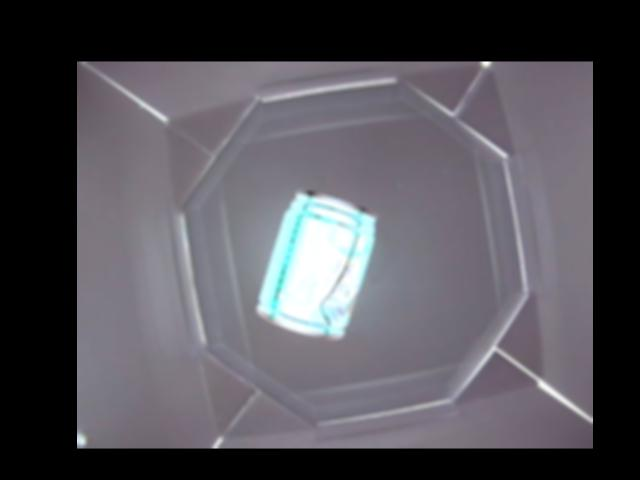Bottle: (252, 188, 380, 340)
